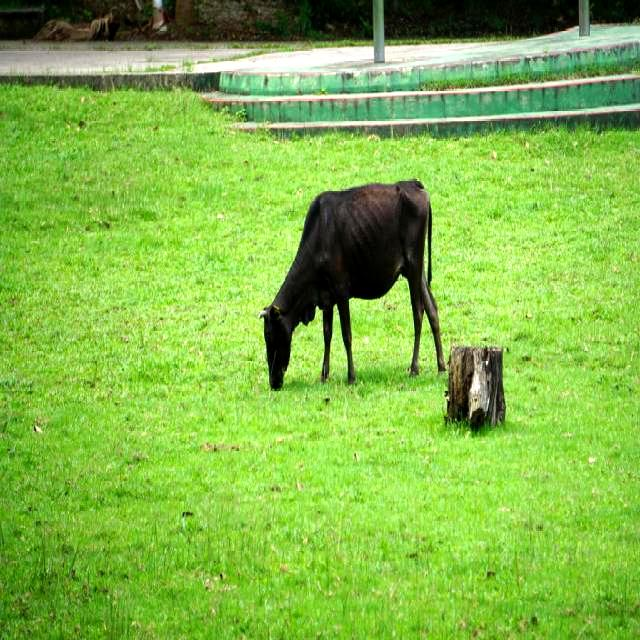COW: (260, 181, 445, 389)
